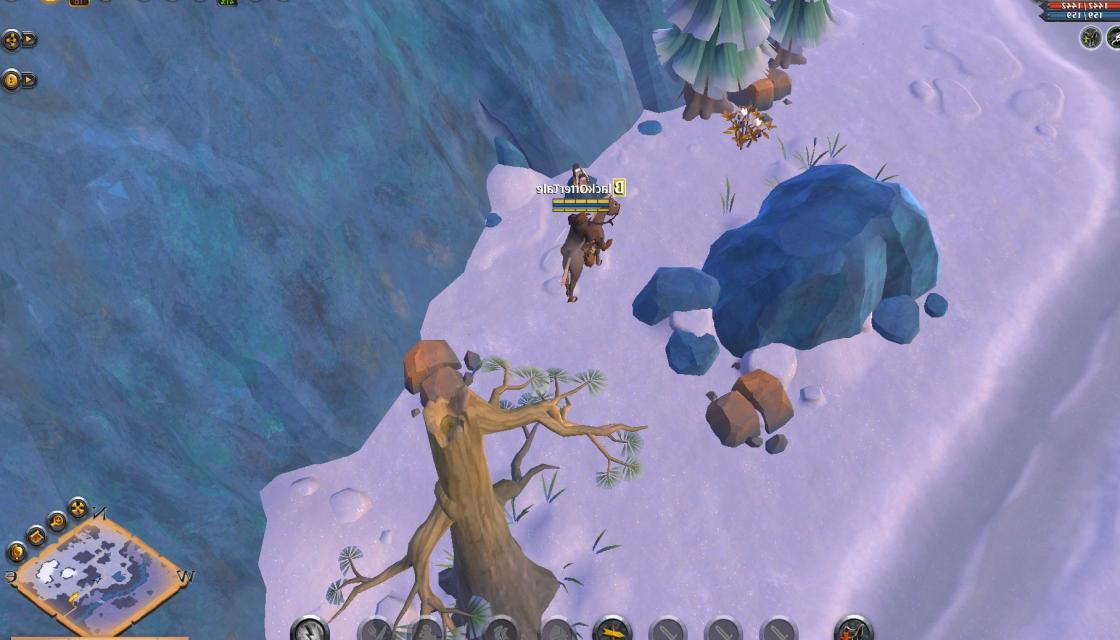limestone: (704, 366, 800, 454), (400, 339, 483, 408), (718, 67, 802, 113)
